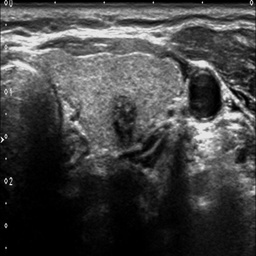mass: (108, 92, 138, 143)
